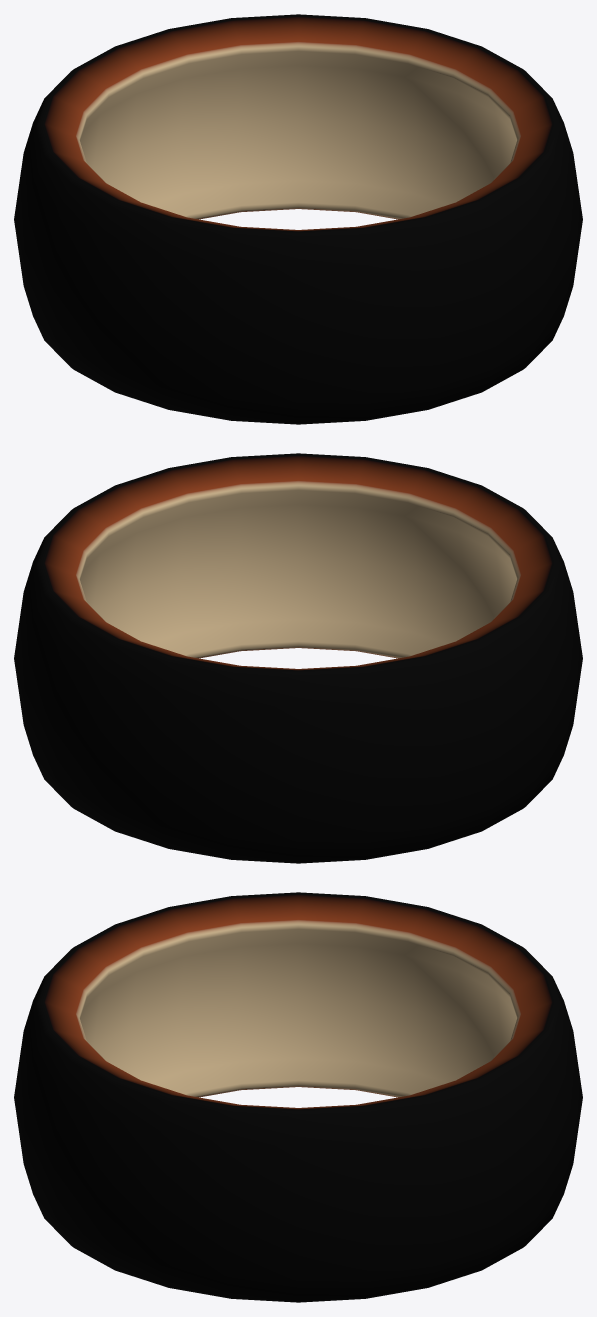
Rendered from Ring.fbx.
3 renders of one model, top to bottom at view 1: azimuth 30°, elevation 25°; view 2: azimuth 150°, elevation 25°; view 3: azimuth 270°, elevation 25°, orthographic.
Parts seen in each view (by area): view 1: Marble04; view 2: Marble04; view 3: Marble04.
Part boxes in pixels (x1=…): Marble04: x1=14, y1=14, x2=582, y2=424; Marble04: x1=14, y1=453, x2=582, y2=863; Marble04: x1=14, y1=892, x2=582, y2=1302.
Bounding box in the file's own units: 100 × 37.02 × 100.
